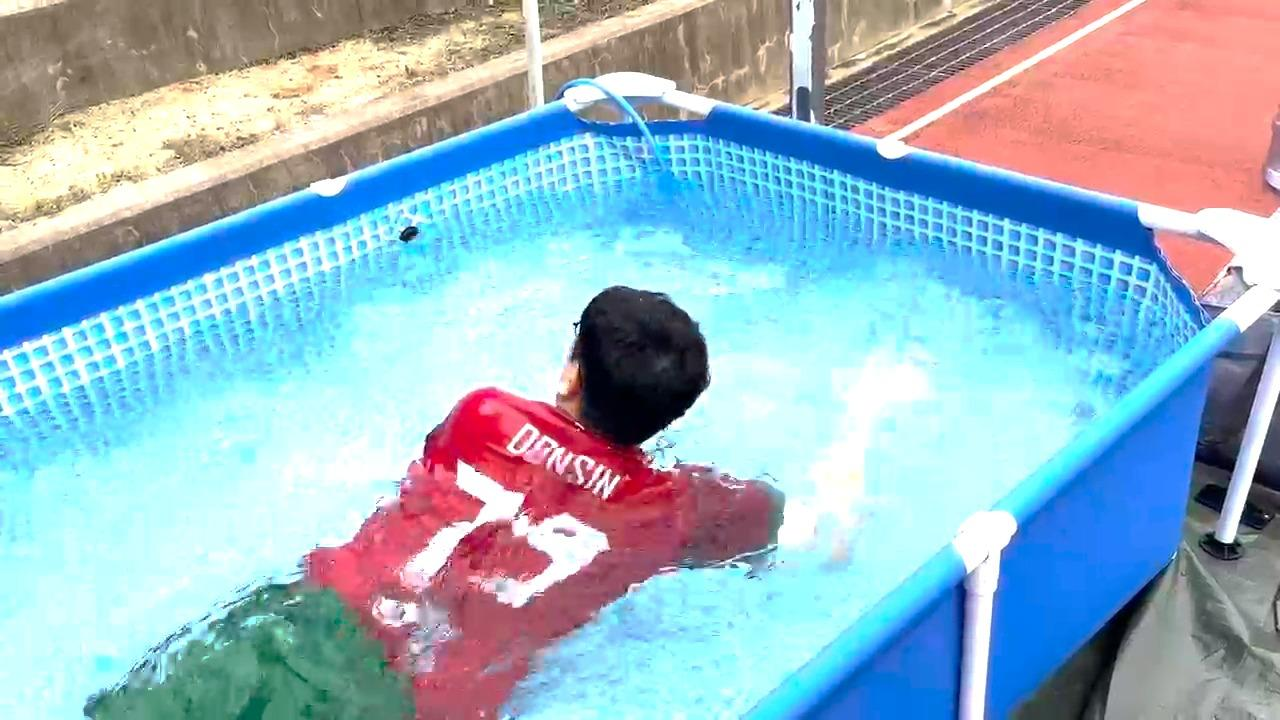Swimming: (103, 225, 840, 720)
